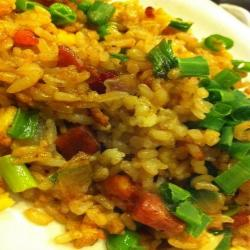rice: (33, 39, 150, 180)
